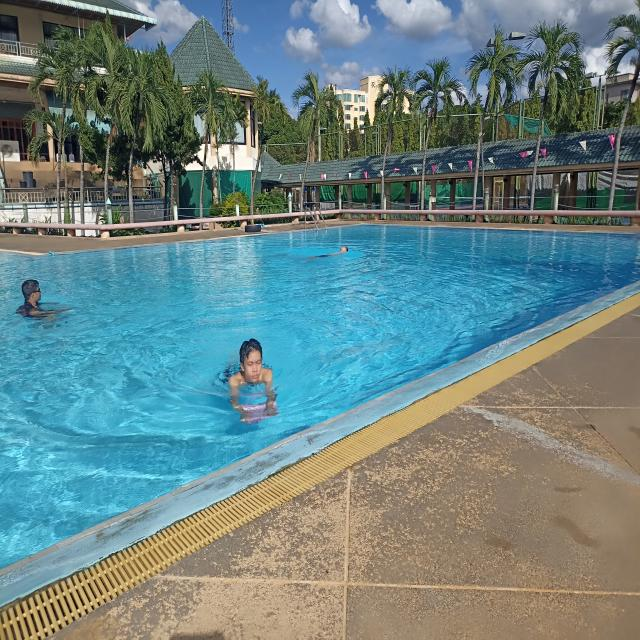Swimming: (213, 324, 283, 430), (0, 266, 84, 350), (296, 240, 355, 267)
